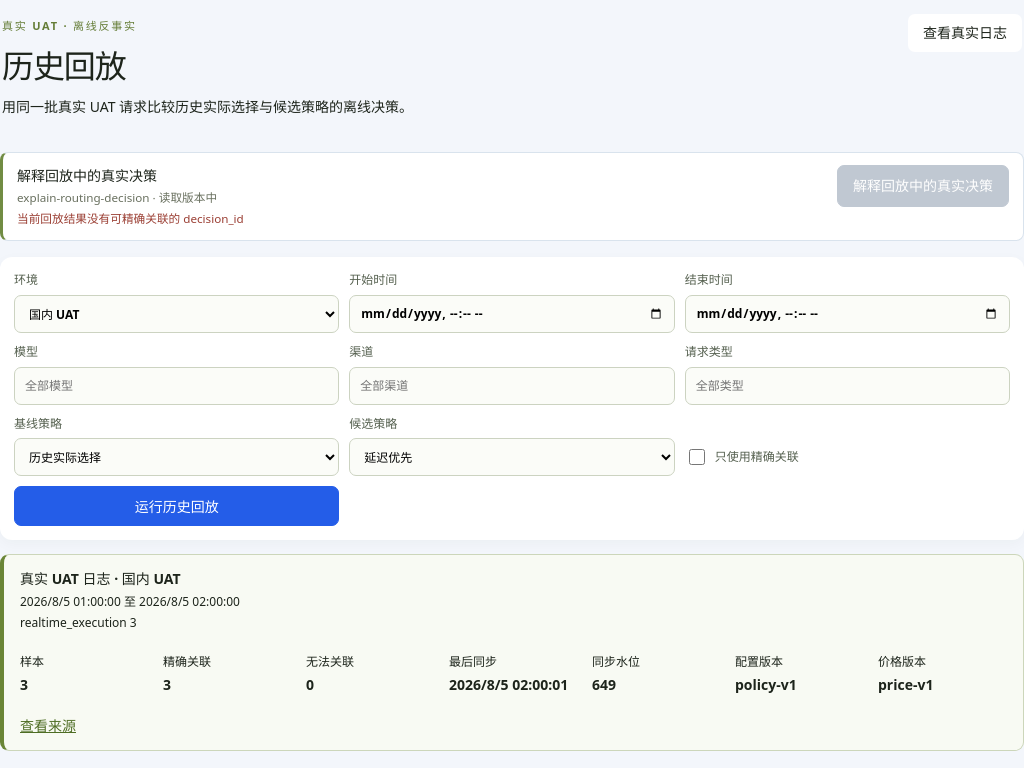
Scenario: HistoricalReplayPage › uses real source, runs replay, and drills into a real request
Expected: the text "真实 UAT 日志 · 国内 UAT" is shown, [20,569,181,588]
Expected: the text "policy-v1" is shown, [735,675,797,694]
Click the button "运行历史回放": (177, 506) [14,486,339,526]
(page scrolled)
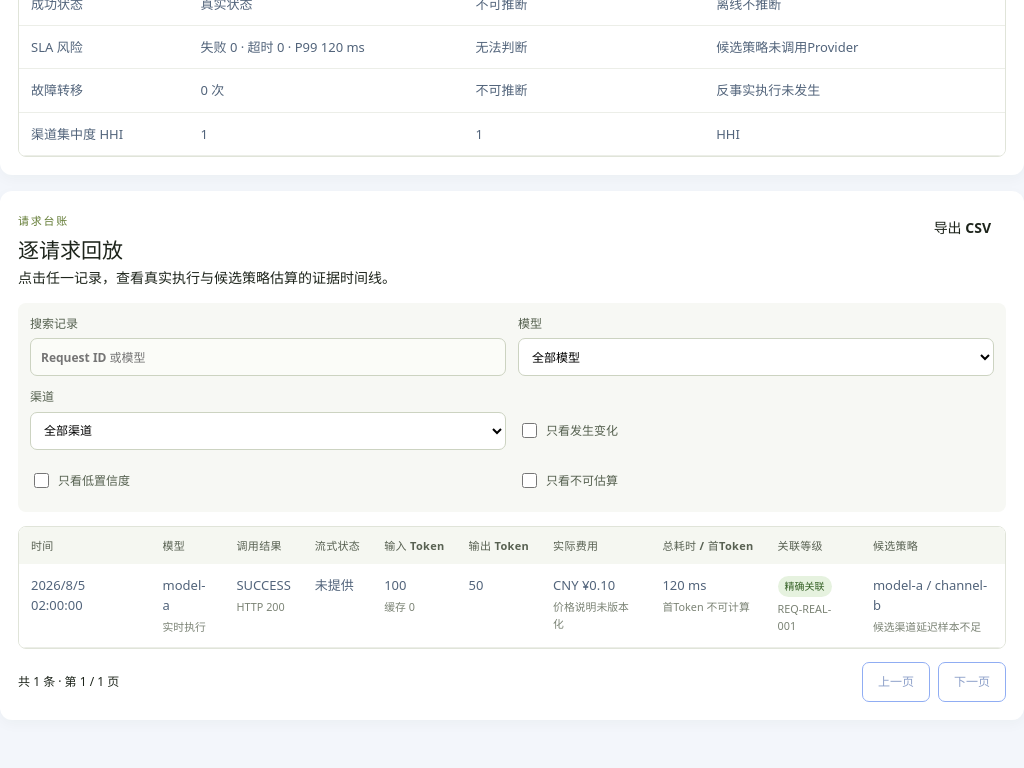
Expected: the text "REQ-REAL-001" is shown
Click the text "REQ-REAL-001": (804, 617) [778,601,831,633]
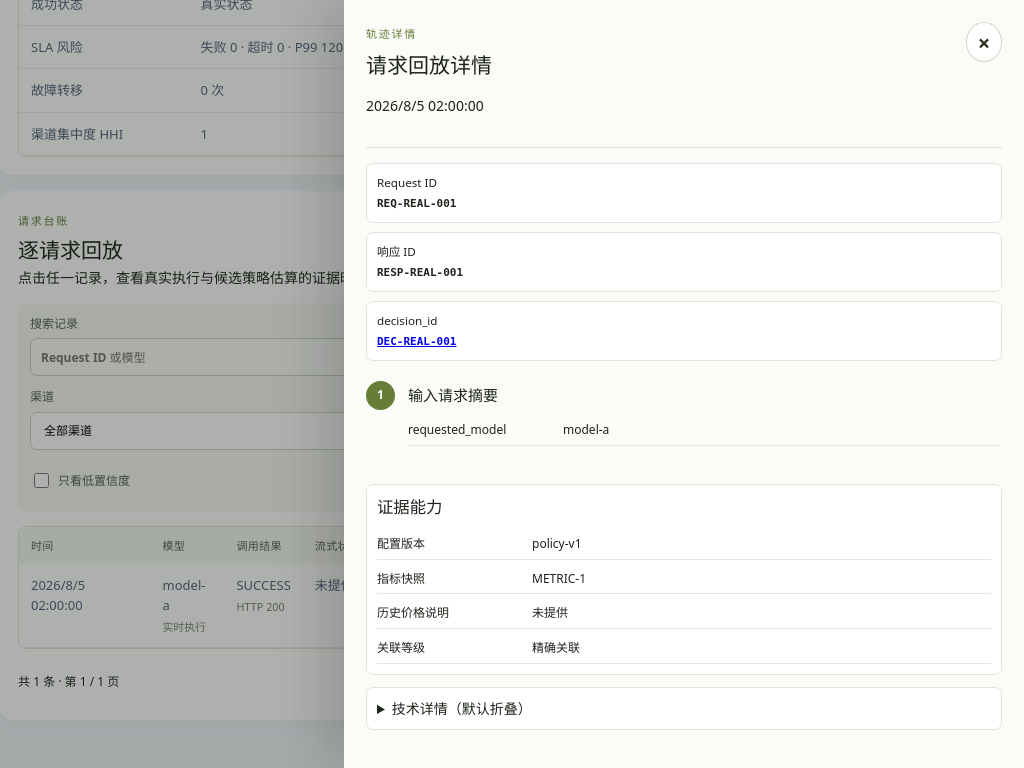
Expected: the dialog "请求回放详情" is shown
Expected: the text "DEC-REAL-001" is shown, [377,335,456,348]
Expected: the heading "技术详情（默认折叠）" is shown, [392,699,532,718]
